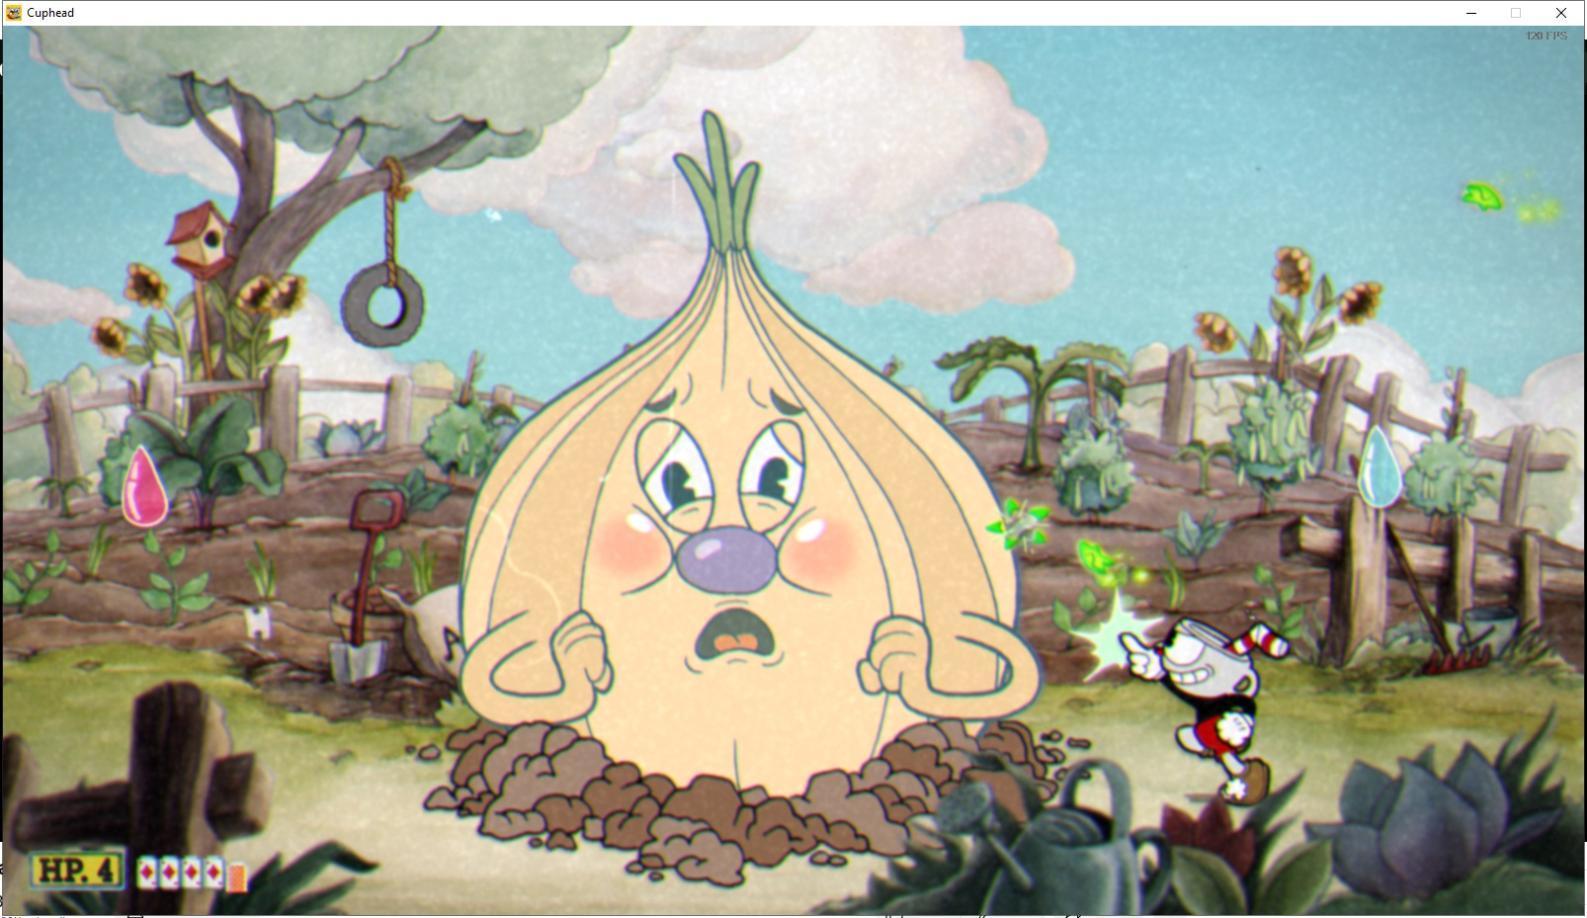onion_boss: (439, 100, 1057, 837)
pink_rain: (112, 436, 176, 535)
player: (1104, 601, 1300, 809)
rain: (1347, 419, 1409, 518)
